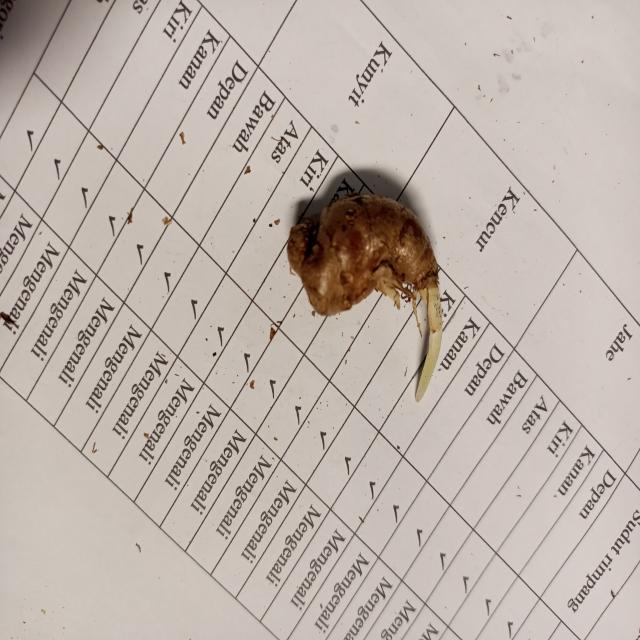ginger: (292, 182, 438, 318)
